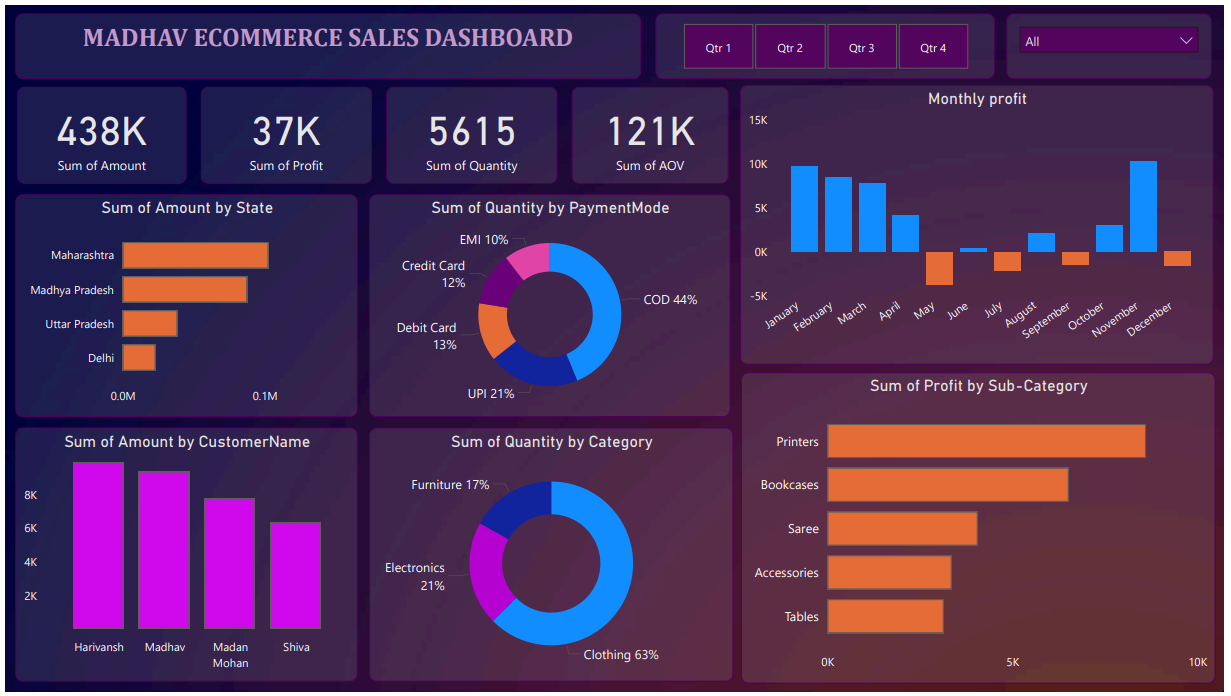

This screenshot's page, from the dashboard's own definition file:
{"tool":"powerbi","page":{"name":"Page 1","canvas":[1280,720],"ordinal":0},"visuals":[{"type":"textbox","box":[10,8.3,658.3,68.3],"z":0},{"type":"columnChart","title":"Monthly profit","fields":{"Y":["Sum(Details.Profit)"],"Category":["Orders.Order_Date.Variation.Date Hierarchy.Month"]},"box":[771.7,83.3,498.3,293.3],"z":1000},{"type":"barChart","fields":{"Category":["Details.Sub-Category"],"Y":["Sum(Details.Profit)"]},"box":[773.3,385,498.3,326.7],"z":2000},{"type":"donutChart","fields":{"Category":["Details.Category"],"Y":["Sum(Details.Quantity)"]},"box":[381.7,443.3,383.3,266.7],"z":3000},{"type":"card","fields":{"Values":["Sum(Details.Amount)"]},"box":[11.7,85,178.3,101.7],"z":4000},{"type":"card","fields":{"Values":["Sum(Details.Profit)"]},"box":[205,85,180,101.7],"z":5000},{"type":"card","fields":{"Values":["Sum(Details.Quantity)"]},"box":[400,85,180,101.7],"z":6000},{"type":"card","fields":{"Values":["Sum(Details.AOV)"]},"box":[595,85,165,101.7],"z":7000},{"type":"donutChart","fields":{"Y":["Sum(Details.Quantity)"],"Category":["Details.PaymentMode"]},"box":[381.7,198.3,380,233.3],"z":8000},{"type":"barChart","fields":{"Category":["Orders.State"],"Y":["Sum(Details.Amount)"]},"box":[10,198.3,360,233.3],"z":9000},{"type":"columnChart","fields":{"Y":["Sum(Details.Amount)"],"Category":["Orders.CustomerName"]},"box":[10,443.3,360,266.7],"z":10000},{"type":"slicer","fields":{"Values":["Orders.Order_Date.Variation.Date Hierarchy.Quarter"]},"box":[683.3,8.3,356.7,68.3],"z":11000},{"type":"slicer","fields":{"Values":["Orders.State"]},"box":[1051.7,8.3,216.7,68.3],"z":12000}]}

Visuals, with their boxes in screenshot pixels (x1, y1, x2, y2), scaled from the page's 1280x720 canvas onto the 1231x696 screenshot:
textbox: <bbox>10, 8, 643, 74</bbox>
"Monthly profit" columnChart: <bbox>742, 81, 1221, 364</bbox>
barChart - Details.Sub-Category x Sum(Details.Profit): <bbox>744, 372, 1223, 688</bbox>
donutChart - Details.Category x Sum(Details.Quantity): <bbox>367, 429, 736, 686</bbox>
card - Sum(Details.Amount): <bbox>11, 82, 183, 180</bbox>
card - Sum(Details.Profit): <bbox>197, 82, 370, 180</bbox>
card - Sum(Details.Quantity): <bbox>385, 82, 558, 180</bbox>
card - Sum(Details.AOV): <bbox>572, 82, 731, 180</bbox>
donutChart - Sum(Details.Quantity) x Details.PaymentMode: <bbox>367, 192, 733, 417</bbox>
barChart - Orders.State x Sum(Details.Amount): <bbox>10, 192, 356, 417</bbox>
columnChart - Sum(Details.Amount) x Orders.CustomerName: <bbox>10, 429, 356, 686</bbox>
slicer - Orders.Order_Date.Variation.Date Hierarchy.Quarter: <bbox>657, 8, 1000, 74</bbox>
slicer - Orders.State: <bbox>1011, 8, 1220, 74</bbox>
